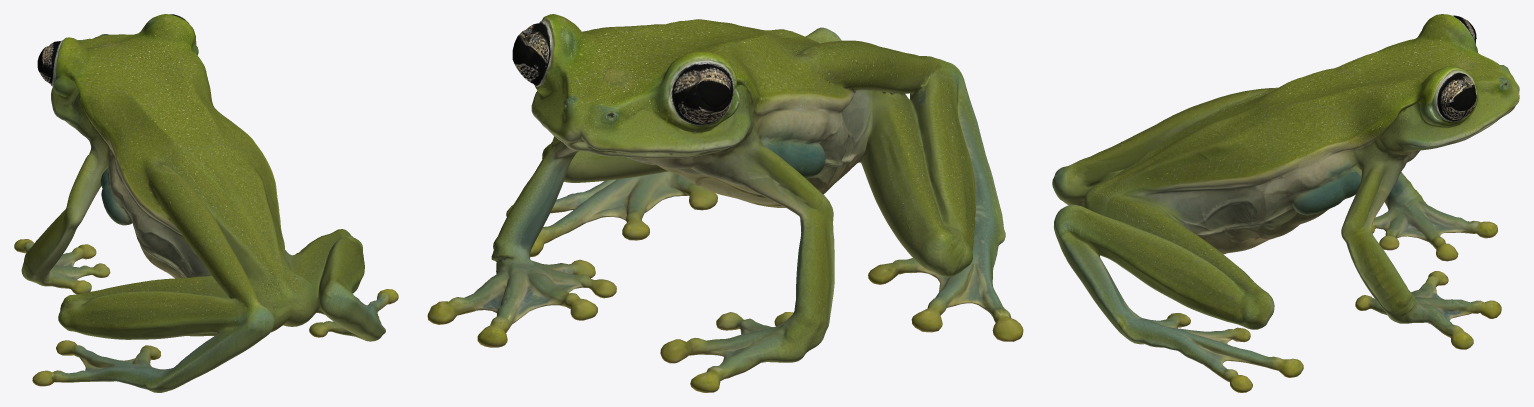
The model's file is ranas_de_cristal_Centrolenidae.fbx.
3 views of the same model, side by side, from view 1: azimuth 30°, elevation 25°; view 2: azimuth 150°, elevation 25°; view 3: azimuth 270°, elevation 25° (orthographic). The views are drawn at different scales.
Visible parts, largest first — view 1: tripo_node_fafa1703; view 2: tripo_node_fafa1703; view 3: tripo_node_fafa1703.
Part boxes in pixels (x1,y1,x2,y2): tripo_node_fafa1703: [14, 14, 398, 392]; tripo_node_fafa1703: [427, 14, 1023, 392]; tripo_node_fafa1703: [1052, 14, 1519, 392].
Bounding box in the file's own units: 93.14 × 60.08 × 97.98.
1 material, 1 textured.
